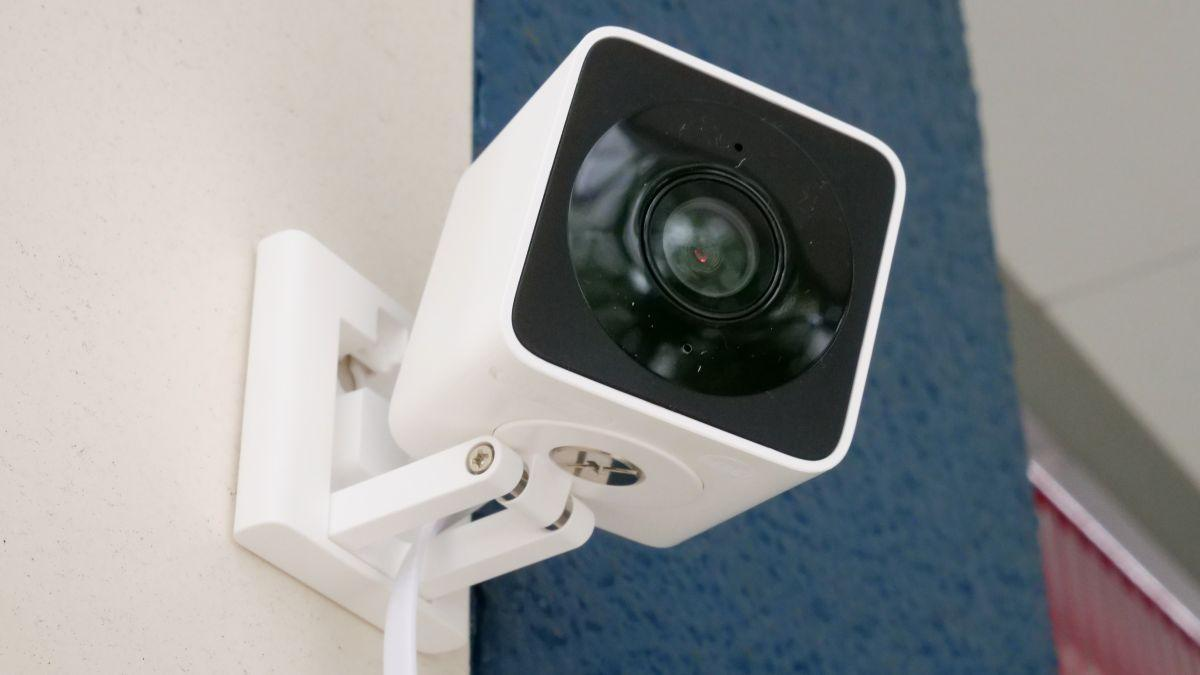tutu: (397, 33, 986, 572)
